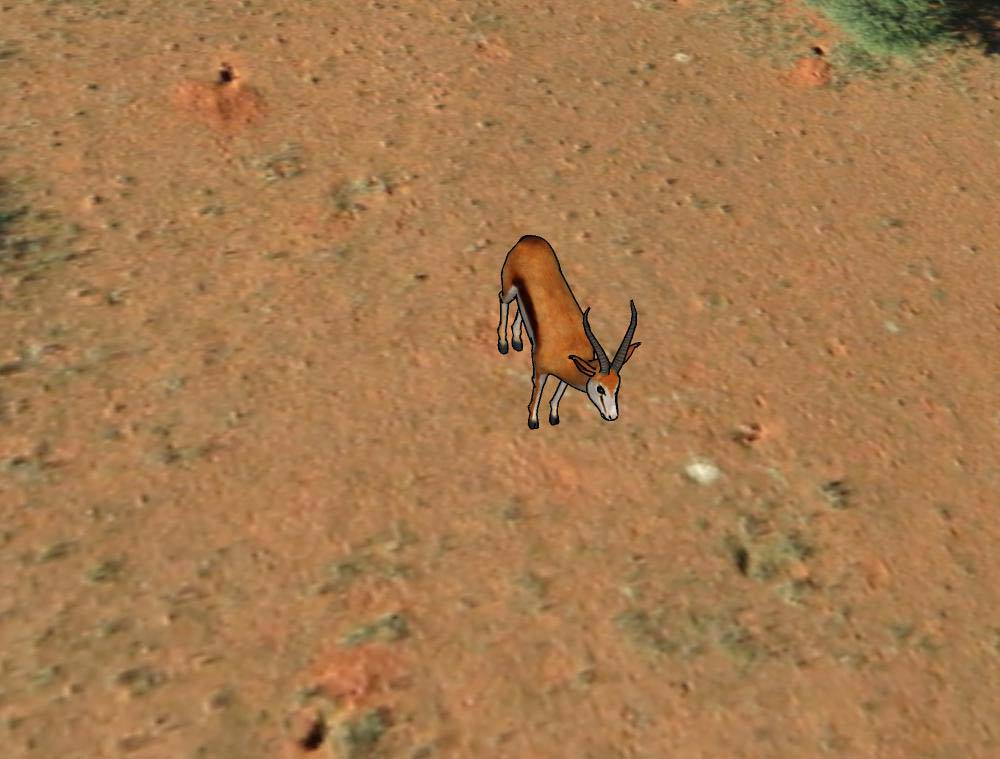springbok: (494, 227, 644, 443)
